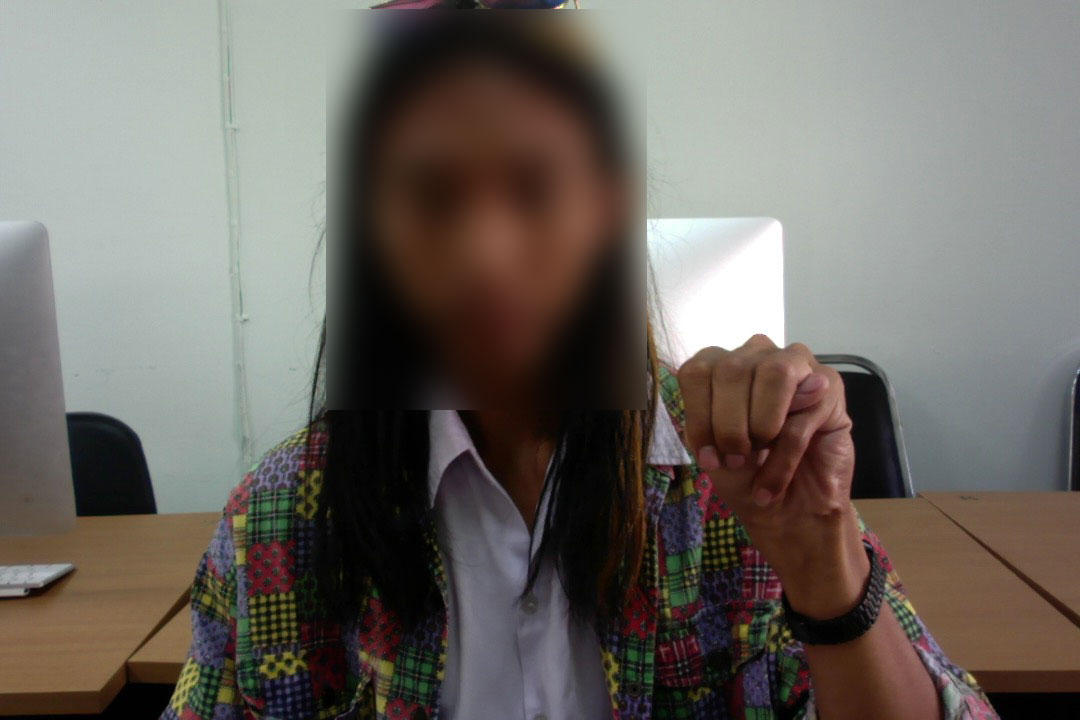mor: (668, 328, 866, 551)
